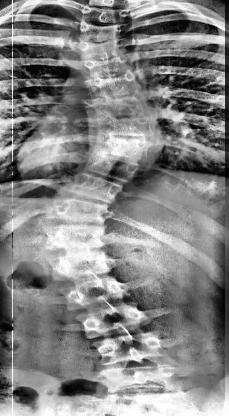Vertebrae: (88, 330, 172, 368), (58, 274, 132, 312), (76, 302, 150, 338), (45, 246, 114, 282), (64, 170, 122, 206), (92, 134, 154, 166), (42, 222, 105, 252), (44, 196, 106, 226), (84, 152, 142, 184), (92, 112, 158, 140), (96, 89, 152, 119), (91, 70, 141, 100), (84, 54, 134, 80), (77, 38, 124, 62), (80, 20, 124, 44)
